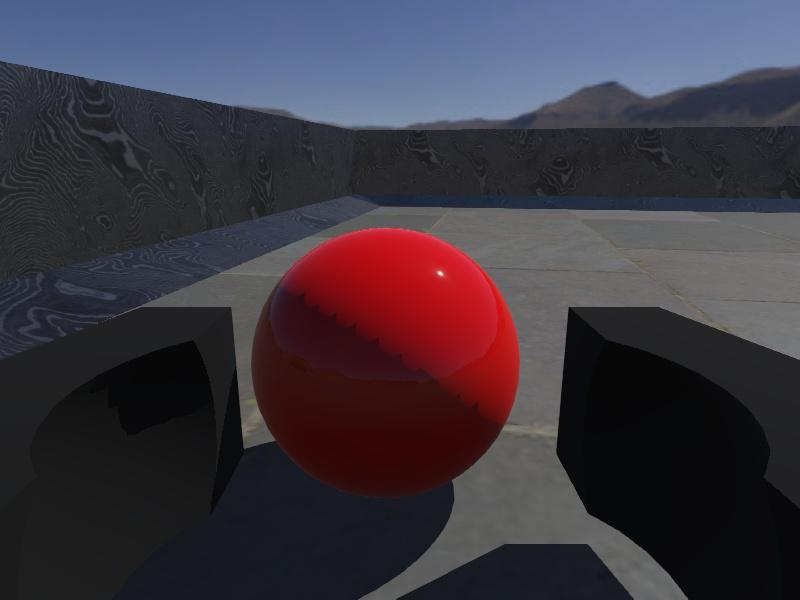red ball: (249, 226, 522, 502)
